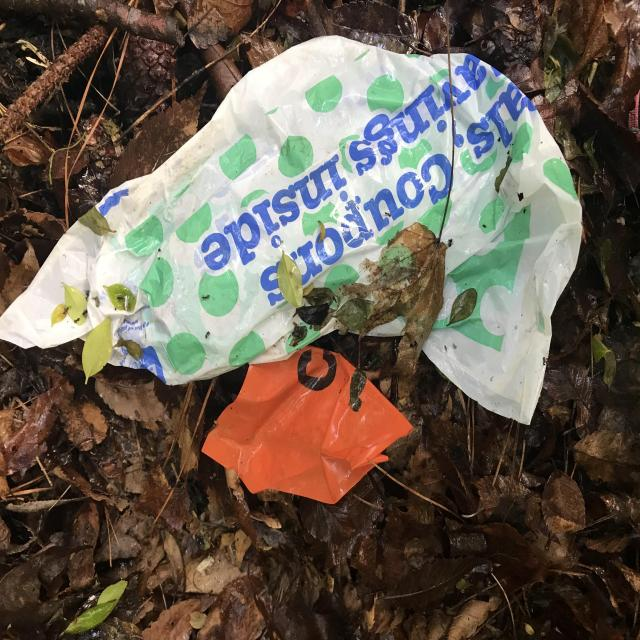litter: (2, 44, 582, 437), (200, 349, 410, 502)
